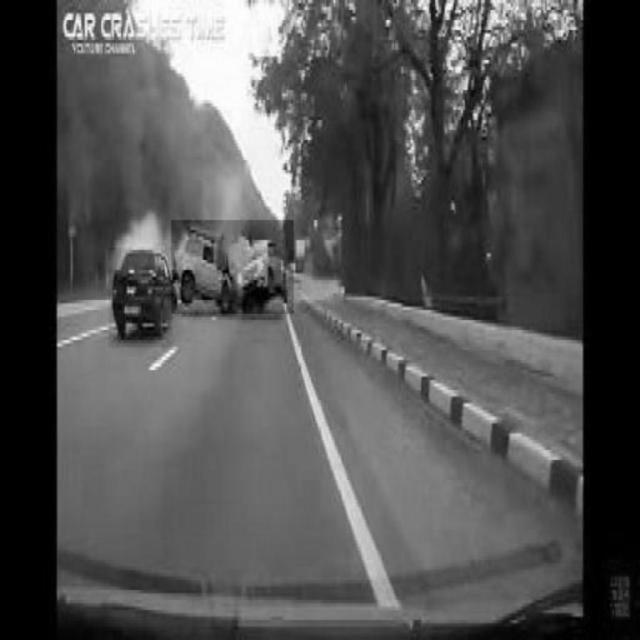accident: (171, 220, 293, 313)
vehicle: (109, 247, 173, 347)
